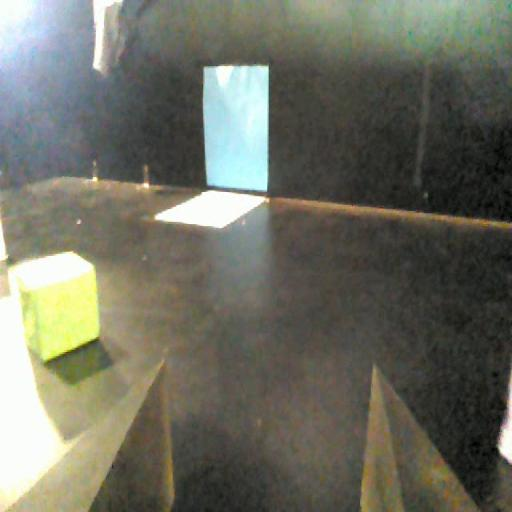cube: (8, 252, 106, 363)
